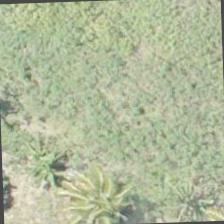Kelapa_Sawit: (60, 160, 153, 223)
